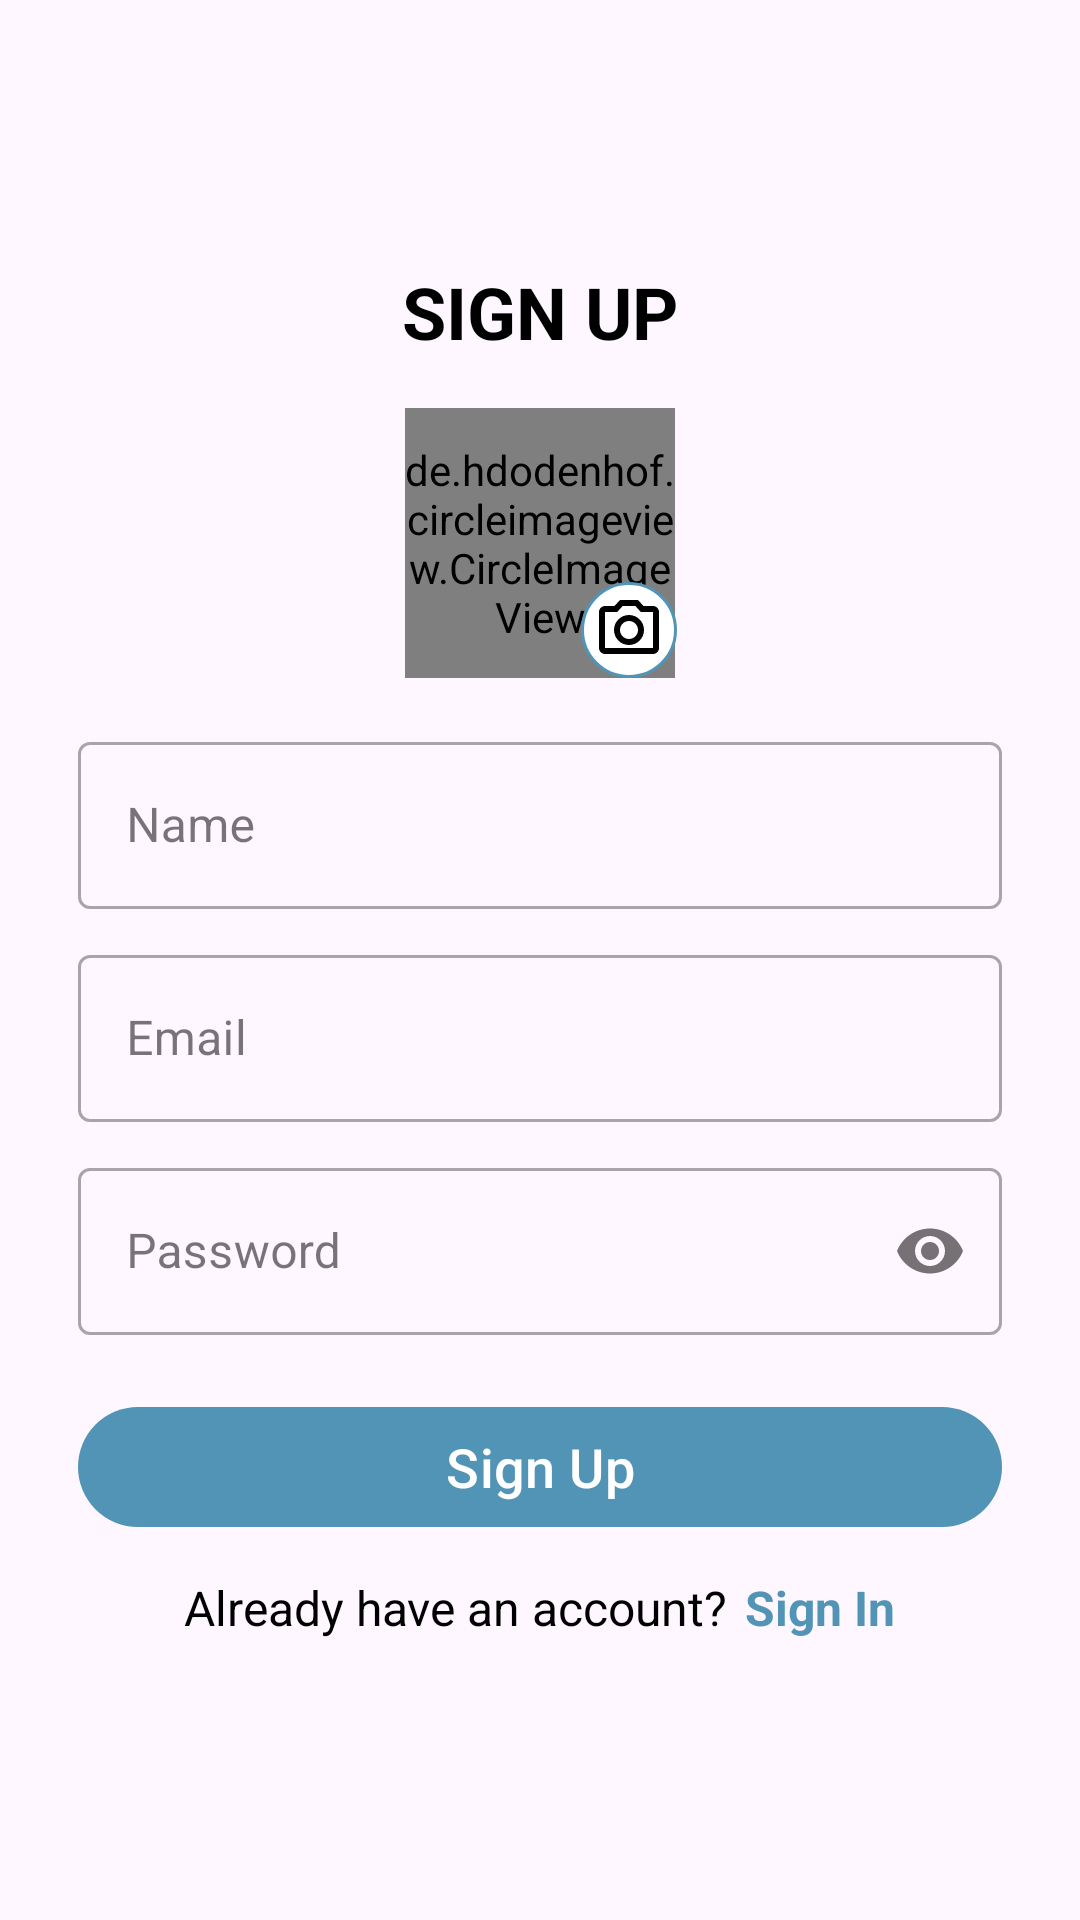

Where to tap for icons on this 1080*1920 app screen, as [x,y]:
camera: [629,630]
